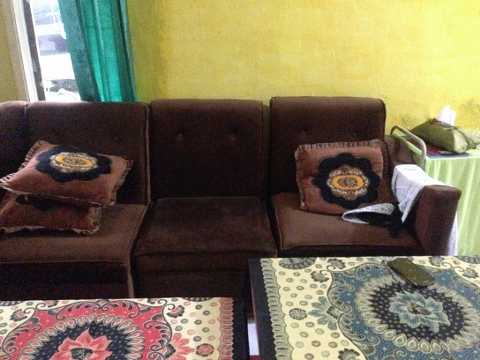kursi: (269, 97, 462, 257), (2, 100, 147, 298), (133, 99, 276, 295)
